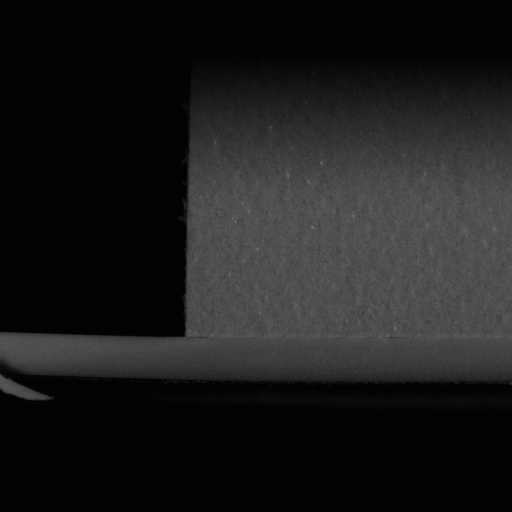changdai: (0, 332, 182, 384)
